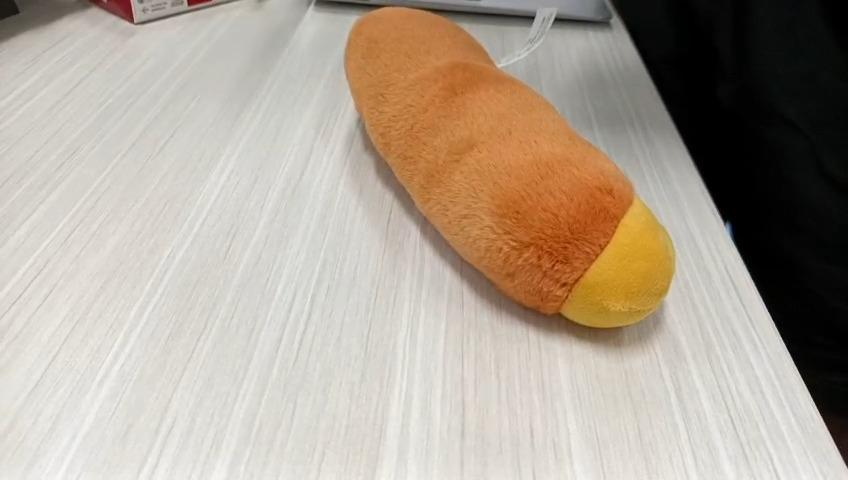hotdog: (344, 8, 677, 329)
